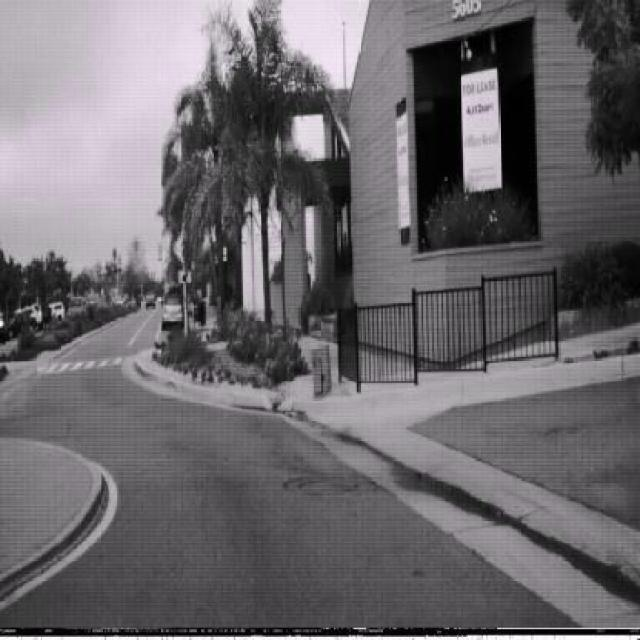pedestrianCrossing: (172, 225, 195, 270)
